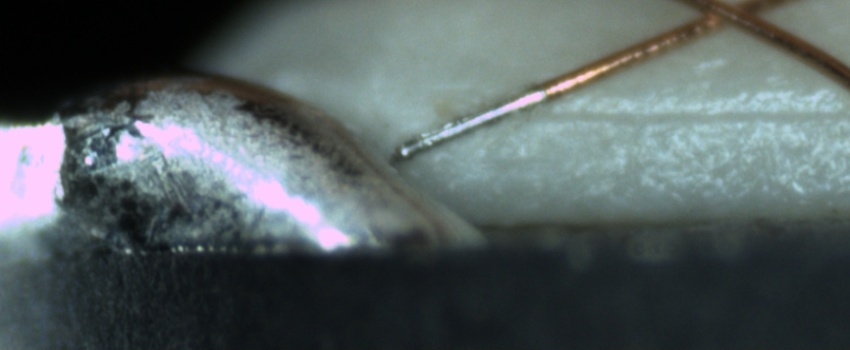CL: (670, 1, 784, 40)
DL: (462, 80, 850, 138)
TS: (392, 82, 547, 164)
